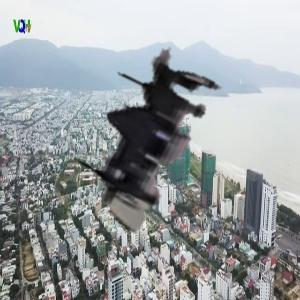drone: (42, 21, 269, 248)
